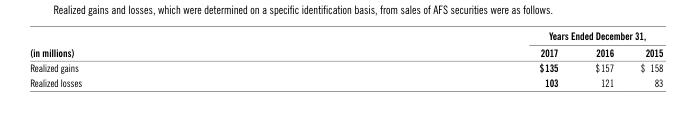table: (29, 29, 662, 87)
table column: (29, 29, 310, 87), (310, 29, 575, 87), (575, 29, 626, 87), (626, 29, 662, 87)
table column header: (29, 29, 662, 59)
table row: (29, 29, 662, 44), (29, 44, 662, 59), (29, 59, 662, 74), (29, 74, 662, 87)
table spanning cell: (29, 29, 310, 59), (310, 29, 662, 44)
